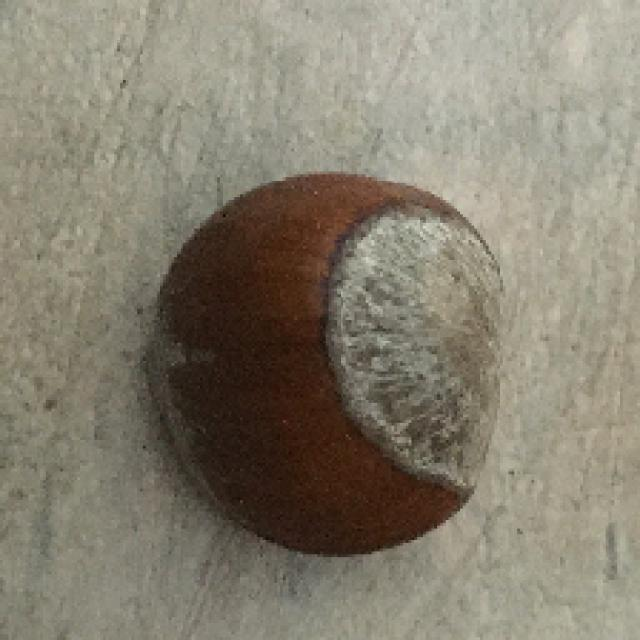qualityHazelnut: (142, 158, 516, 567)
